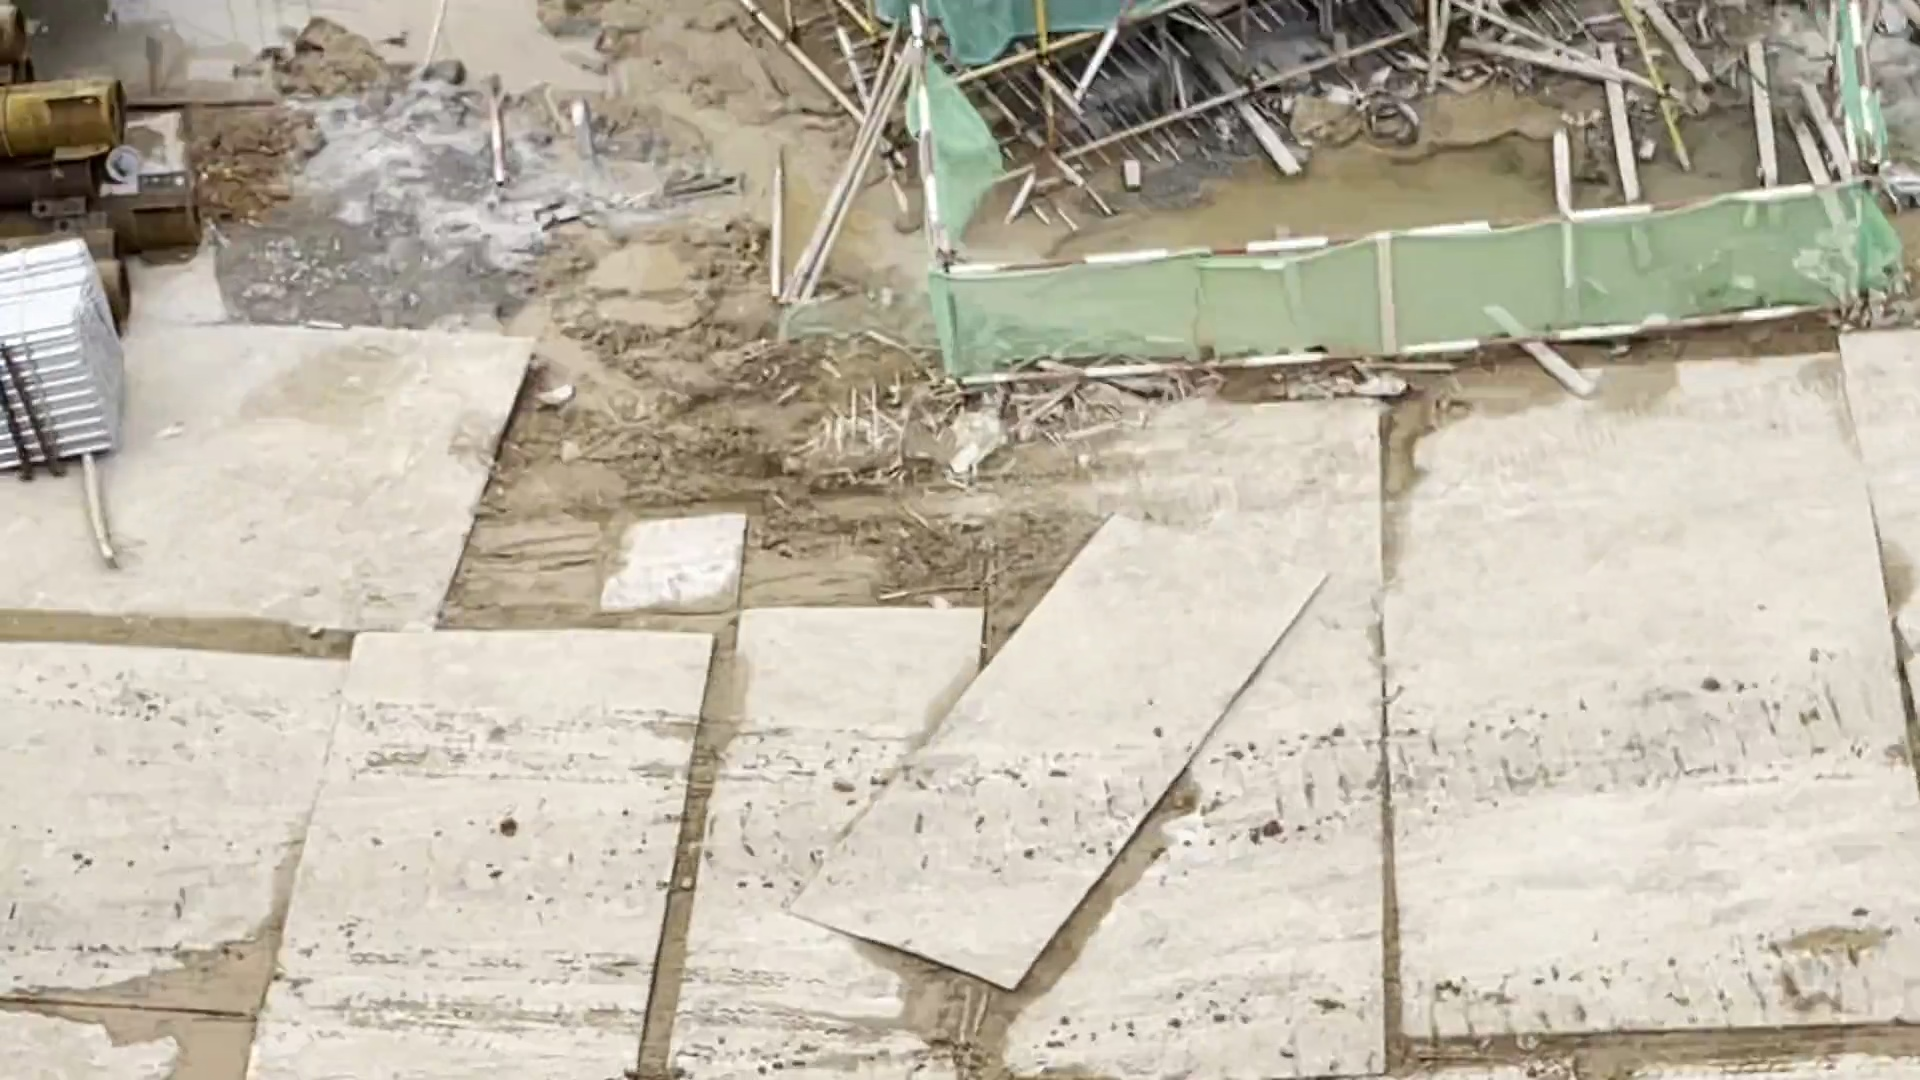scaffold: (1, 222, 142, 484)
